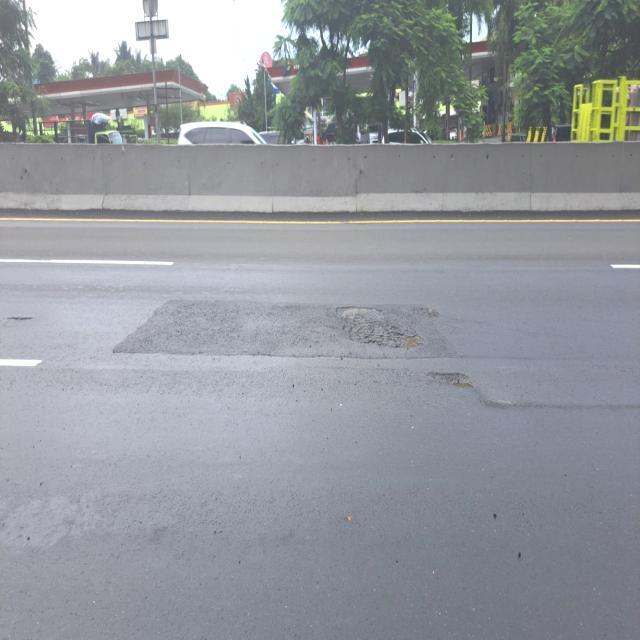Buraco: (333, 304, 428, 353), (423, 369, 478, 391), (4, 314, 34, 322)
